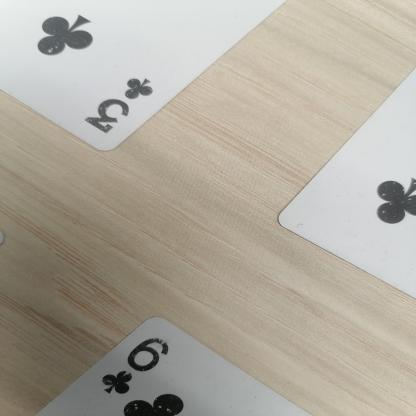3C: (74, 66, 165, 142)
6C: (94, 321, 180, 410)
